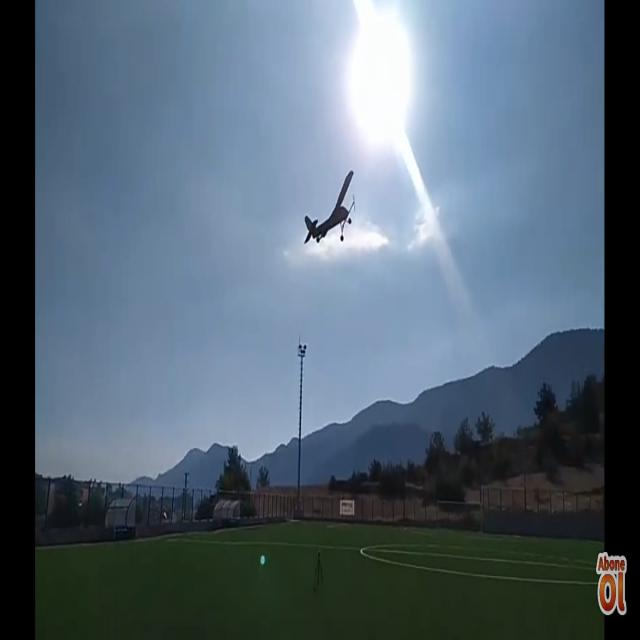iha: (298, 205, 349, 210)
